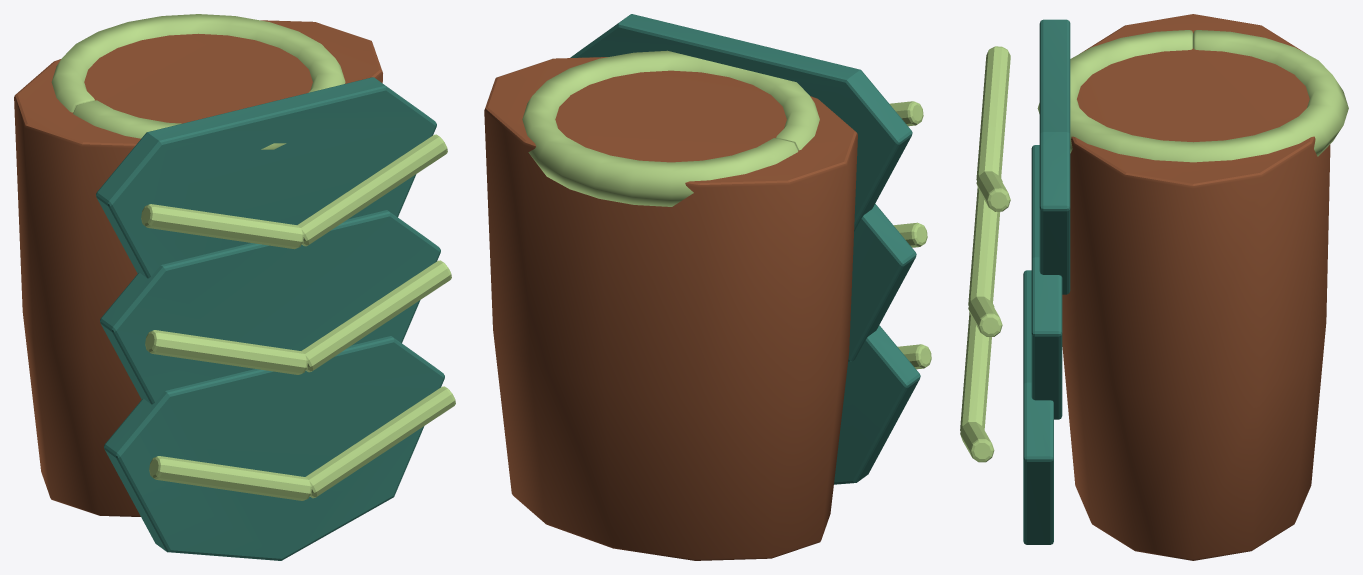
The model's file is item_055.glb.
3 renders of one model, left to right at view 1: azimuth 30°, elevation 25°; view 2: azimuth 150°, elevation 25°; view 3: azimuth 270°, elevation 25°, orthographic.
Visible parts, largest first — view 1: Item_055_sluice_scalemail; view 2: Item_055_sluice_scalemail; view 3: Item_055_sluice_scalemail.
Boxes of the visible parts, bbox=[...] form: Item_055_sluice_scalemail: bbox=[14, 14, 455, 560]; Item_055_sluice_scalemail: bbox=[484, 14, 931, 560]; Item_055_sluice_scalemail: bbox=[960, 14, 1348, 560].
Bounding box in the file's own units: 0.3997 × 0.485 × 0.3798.
